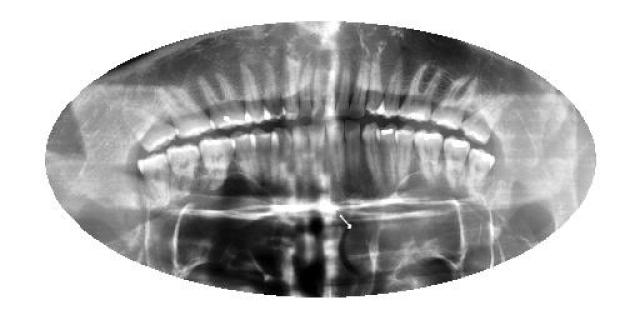Fillings: (199, 72, 249, 130), (441, 134, 471, 190), (412, 128, 443, 182), (378, 124, 402, 186), (469, 148, 496, 192)
